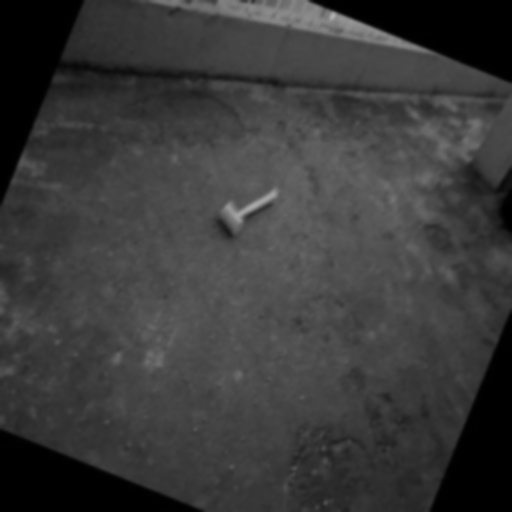mallet: (211, 172, 281, 250)
